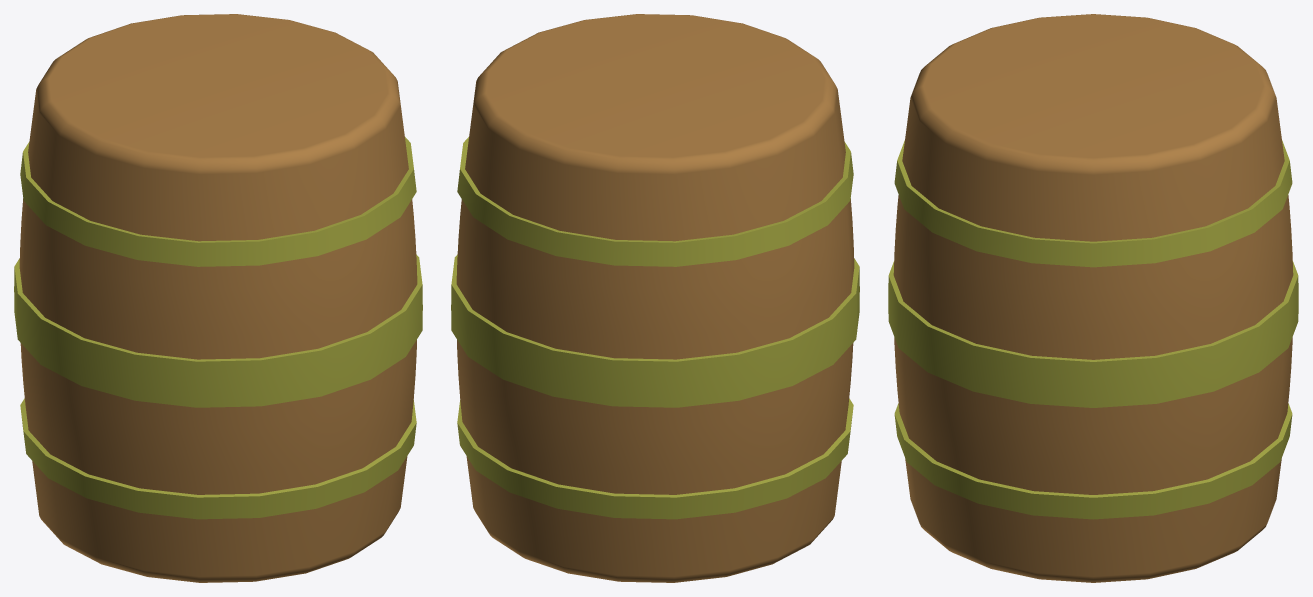
Rendered from Barrel_1.fbx.
3 renders of one model, left to right at view 1: azimuth 30°, elevation 25°; view 2: azimuth 150°, elevation 25°; view 3: azimuth 270°, elevation 25°, orthographic.
Visible parts, largest first — view 1: Barrel; view 2: Barrel; view 3: Barrel.
Boxes of the visible parts, x1,y1,x2,y2 form: Barrel: [14, 14, 422, 582]; Barrel: [451, 14, 859, 582]; Barrel: [888, 14, 1298, 582].
Bounding box in the file's own units: 7.88 × 9.03 × 7.88.
